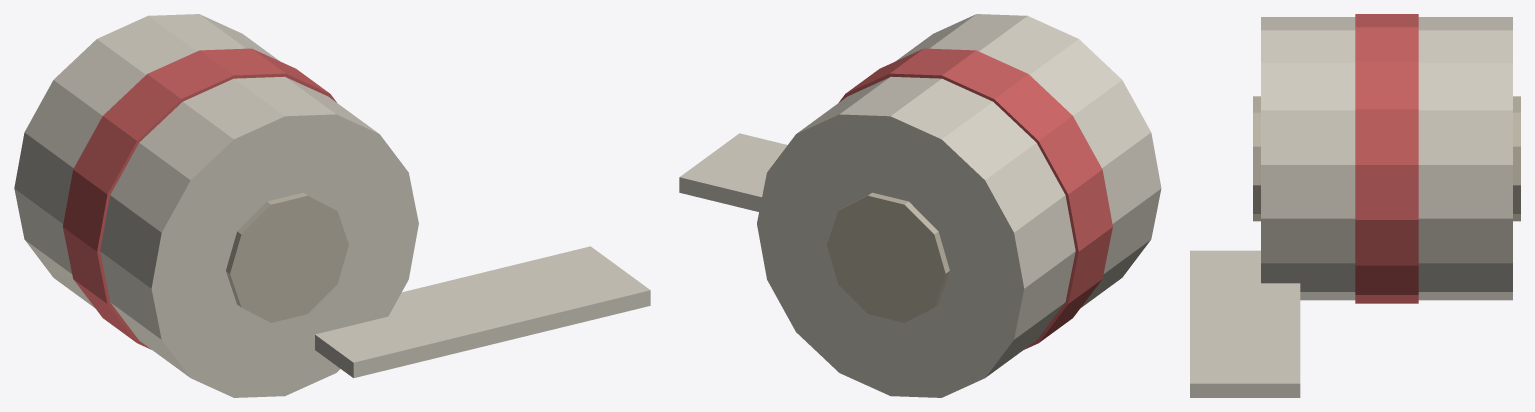
The model's file is bandagem.glb.
3 views of the same model, side by side, from view 1: azimuth 30°, elevation 25°; view 2: azimuth 150°, elevation 25°; view 3: azimuth 270°, elevation 25° (orthographic). The views are drawn at different scales.
Parts seen in each view (by area): view 1: bandagem; view 2: bandagem; view 3: bandagem.
Part boxes in pixels (<box>): bandagem: <box>14,14,650,397</box>; bandagem: <box>679,14,1161,397</box>; bandagem: <box>1190,14,1520,397</box>.
Bounding box in the file's own units: 0.312 × 0.184 × 0.21.
